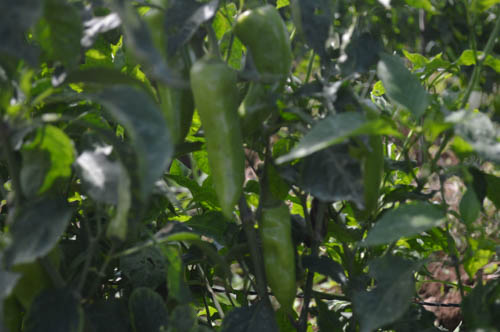ChiliPepper: (194, 63, 244, 213), (139, 11, 190, 146), (236, 7, 290, 132), (348, 101, 383, 219), (256, 201, 293, 295)
